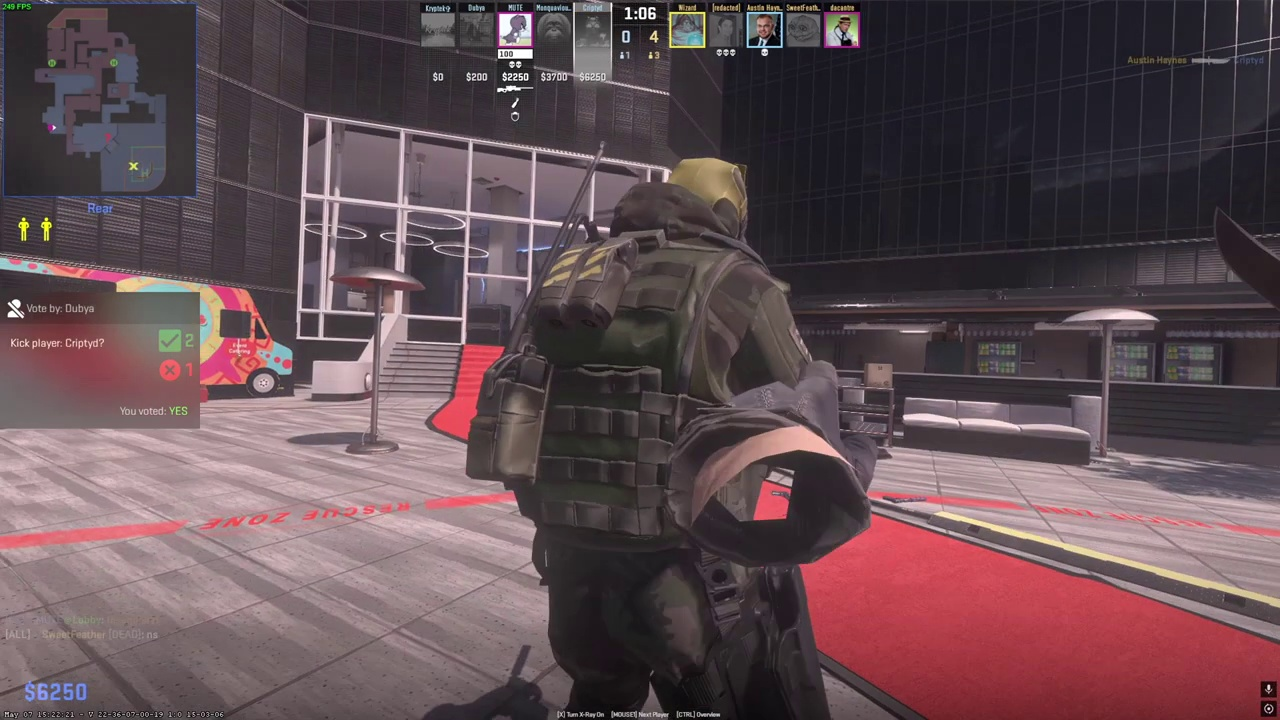CT: (505, 156, 845, 720)
